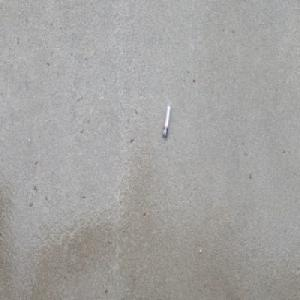Battery: (161, 105, 170, 139)
